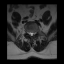CCS_stenosis: (31, 30, 32, 37)
LFS_normal: (34, 31, 35, 36)
LLS_normal: (32, 31, 34, 36)
RFS_normal: (27, 30, 29, 35)
RLS_normal: (29, 31, 31, 36)
